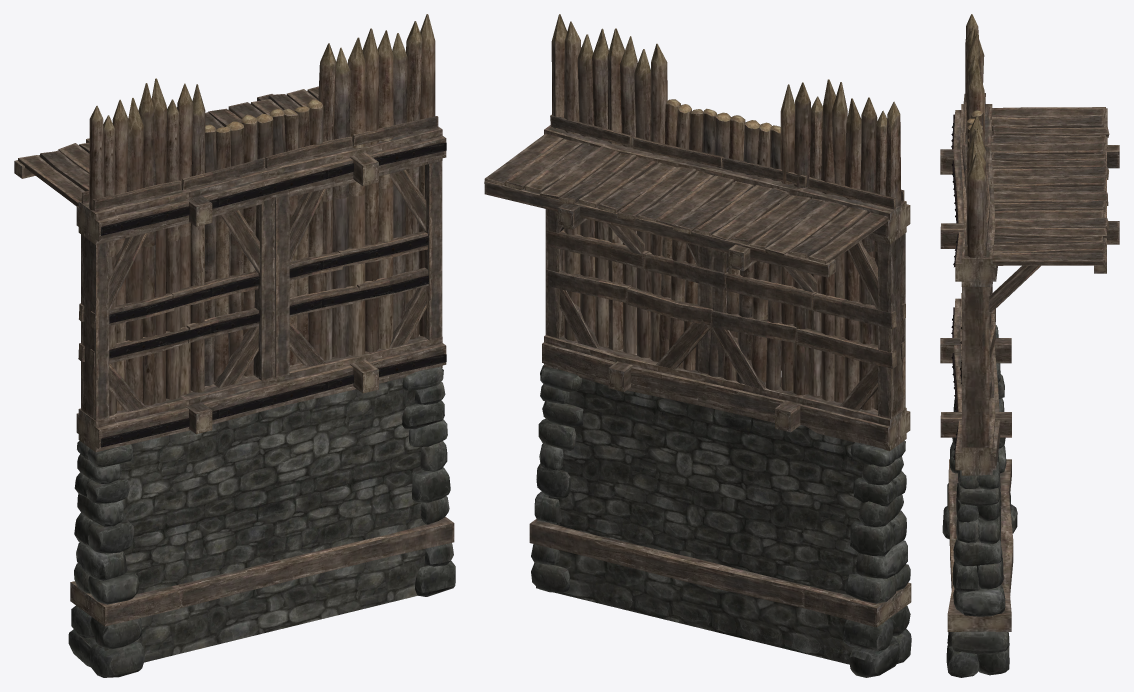
Rendered from jav_struc_def_truestone_walla-transformed.glb.
The picture shows the model from 3 angles, left to right: view 1: azimuth 30°, elevation 25°; view 2: azimuth 150°, elevation 25°; view 3: azimuth 270°, elevation 25°; orthographic projection. The views are drawn at different scales.
Parts seen in each view (by area): view 1: default; view 2: default; view 3: default.
Boxes of the visible parts, left/top/right/bottom form: default: left=14, top=14, right=455, bottom=677; default: left=484, top=14, right=911, bottom=677; default: left=940, top=14, right=1119, bottom=677.
Bounding box in the file's own units: 8.3 × 12.74 × 3.95.
Materials: 3 (3 with a texture image).
